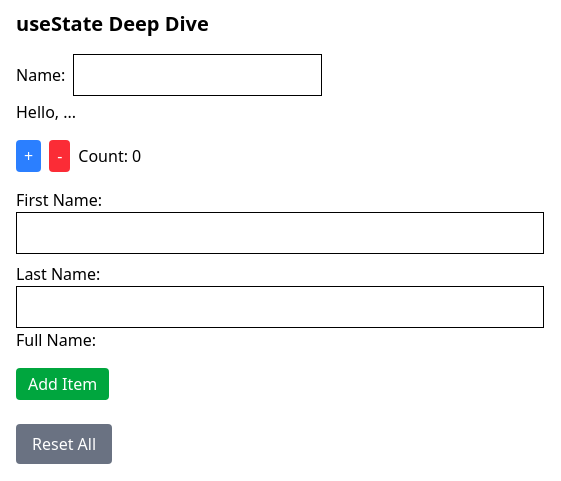
UseStateAdvanced › updates name input
Type "John" into the field labelled "Name:" at (198, 75), box x1=73 y1=54 x2=322 y2=96
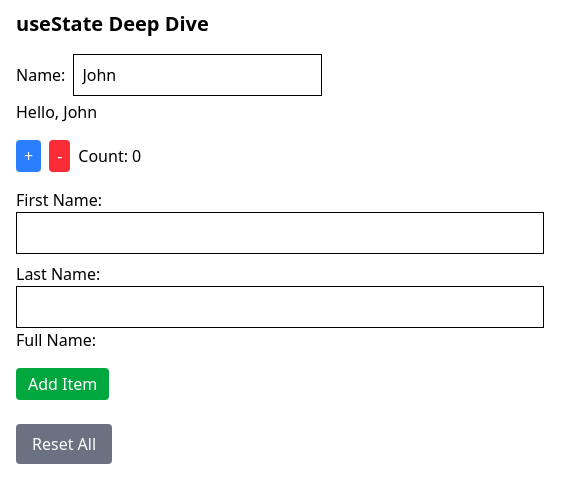
Now the text "Hello, John" is shown, box x1=16 y1=101 x2=97 y2=123
